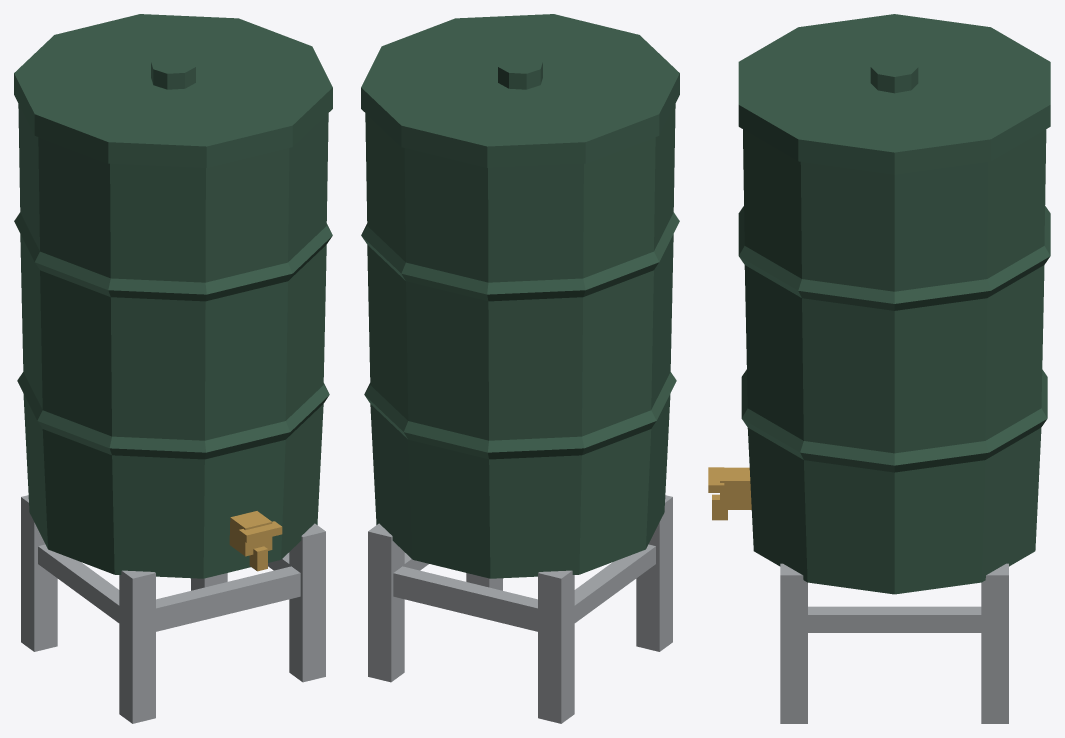
Rendered from FN_Butt_Water.glb.
3 views of the same model, side by side, from view 1: azimuth 30°, elevation 25°; view 2: azimuth 150°, elevation 25°; view 3: azimuth 270°, elevation 25° (orthographic). The views are drawn at different scales.
Visible parts, largest first — view 1: FN_Butt_Water; view 2: FN_Butt_Water; view 3: FN_Butt_Water.
Boxes of the visible parts, x1,y1,x2,y2 form: FN_Butt_Water: (14, 14, 332, 723); FN_Butt_Water: (361, 14, 679, 723); FN_Butt_Water: (708, 14, 1050, 723).
Size of the model in its own units: 0.62 by 1.27 by 0.6468.
Materials: 1 (1 with a texture image).
